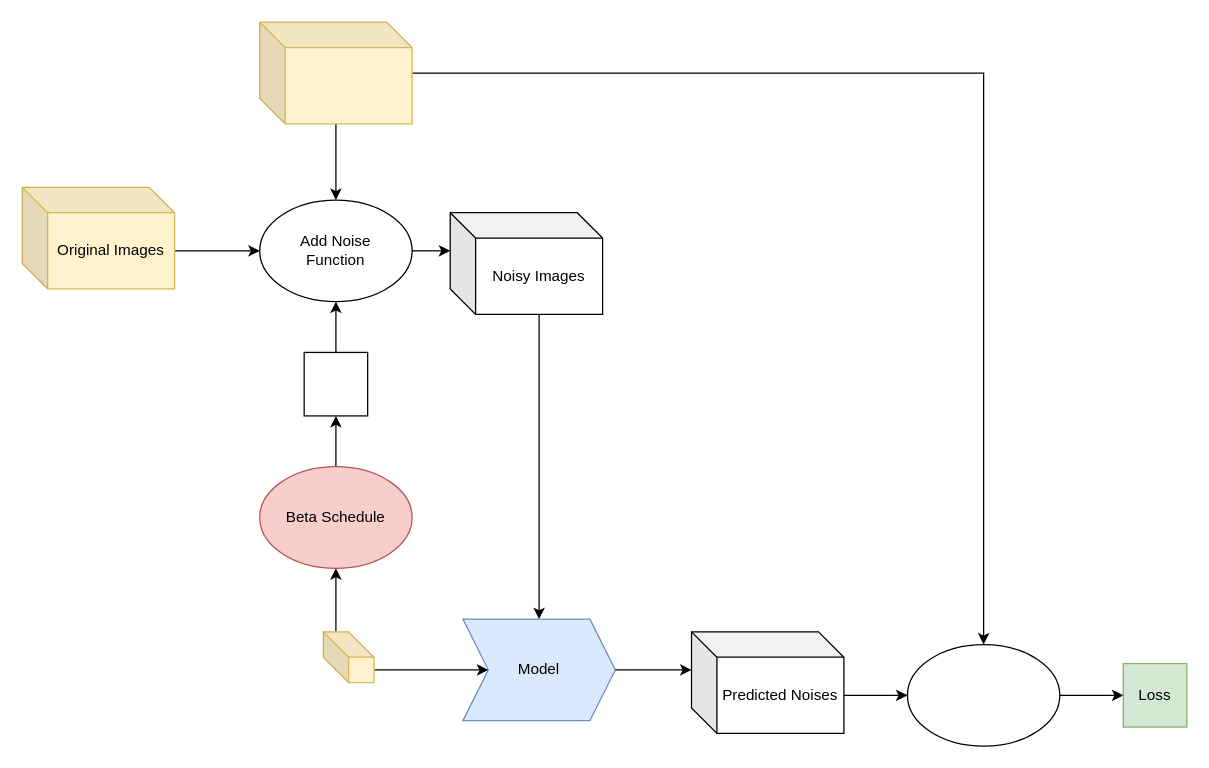
Some shapes in this 1209 by 768 pixel diagram are drawn without their labels. The centre of each missing label's shape, as x and y in pixels:
Beta: [335,383]
Gaussian Noises: [335,72]
Loss Function: [983,694]
Sample Timesteps: [348,657]
